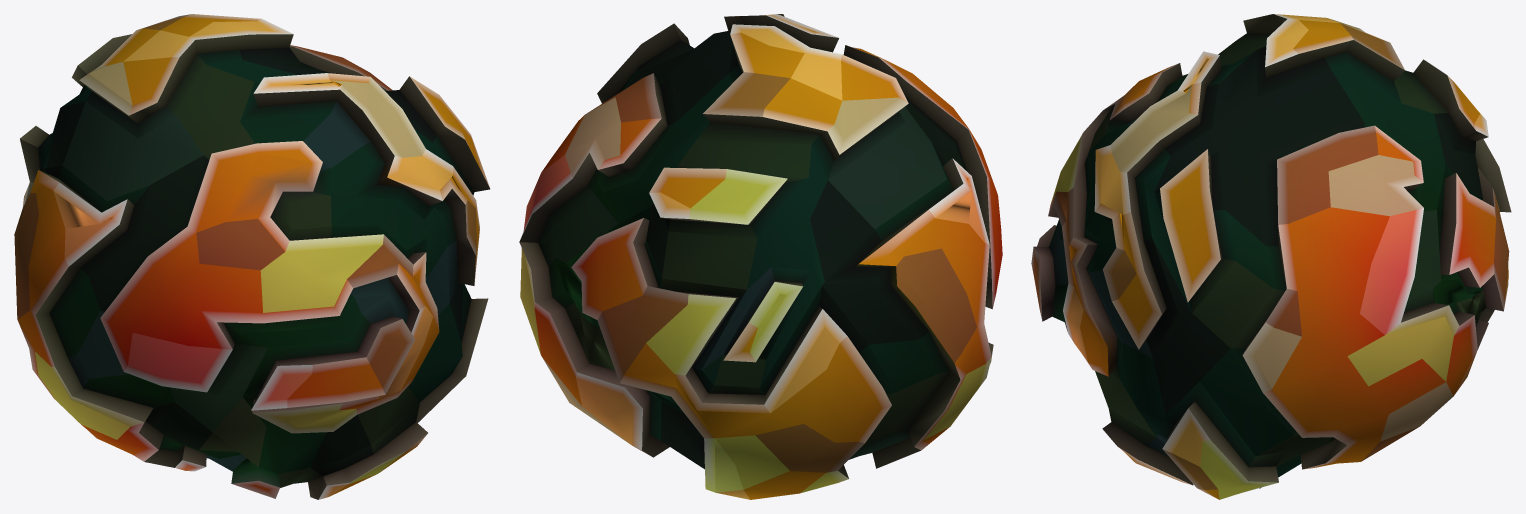
The model's file is Earn_01.fbx.
The picture shows the model from 3 angles, left to right: view 1: azimuth 30°, elevation 25°; view 2: azimuth 150°, elevation 25°; view 3: azimuth 270°, elevation 25°; orthographic projection. The views are drawn at different scales.
Visible parts, largest first — view 1: Earn_01; view 2: Earn_01; view 3: Earn_01.
Boxes of the visible parts, left/top/right/bottom form: Earn_01: left=14, top=14, right=490, bottom=499; Earn_01: left=519, top=14, right=1002, bottom=499; Earn_01: left=1031, top=14, right=1511, bottom=499.
Size of the model in its own units: 11404 by 11523 by 11742.
